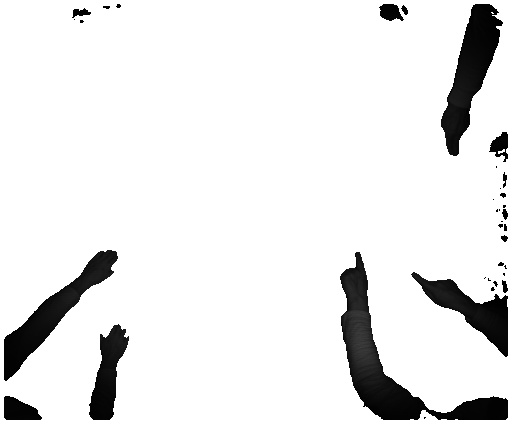hand: (408, 272, 469, 312), (336, 248, 375, 307), (99, 320, 135, 365), (81, 248, 119, 290), (440, 108, 471, 159)
